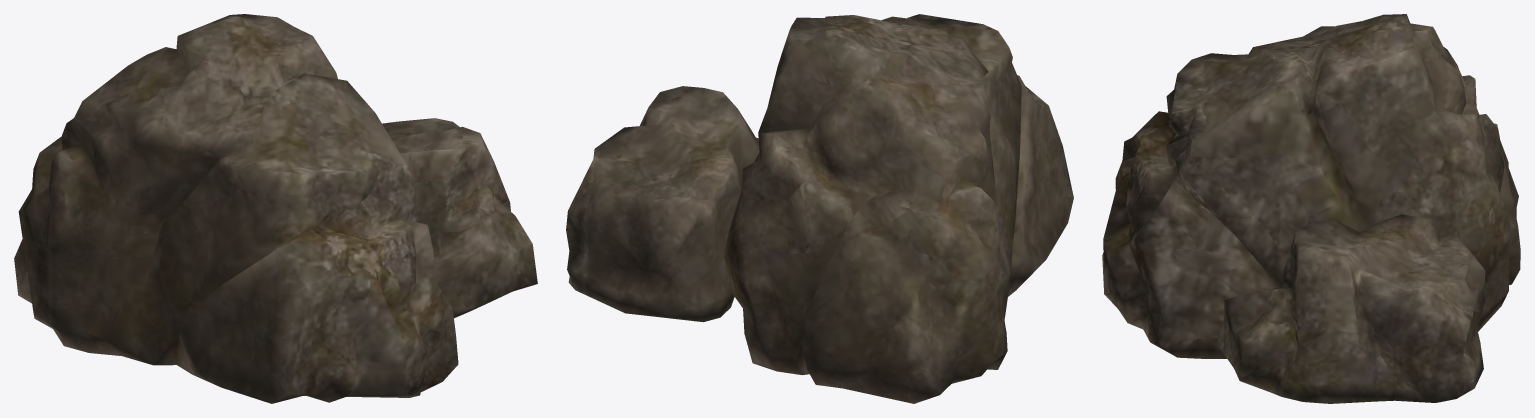
Rendered from x_rock_single_B.glb.
3 views of the same model, side by side, from view 1: azimuth 30°, elevation 25°; view 2: azimuth 150°, elevation 25°; view 3: azimuth 270°, elevation 25° (orthographic). The views are drawn at different scales.
Visible parts, largest first — view 1: x_rock_single_B; view 2: x_rock_single_B; view 3: x_rock_single_B.
Boxes of the visible parts, x1,y1,x2,y2 form: x_rock_single_B: (14, 14, 537, 403); x_rock_single_B: (566, 14, 1073, 403); x_rock_single_B: (1102, 14, 1520, 403).
Size of the model in its own units: 0.2863 by 0.2028 by 0.2605.
Materials: 1 (1 with a texture image).
